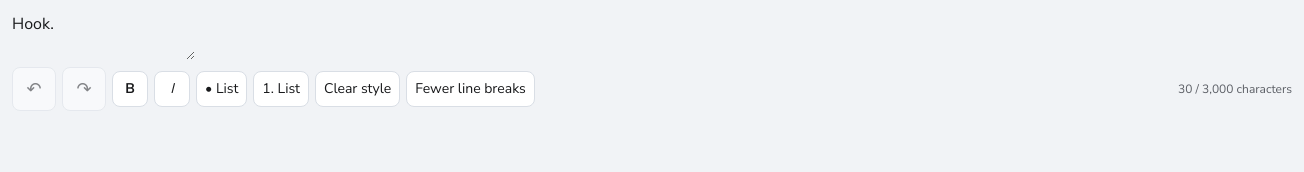
Test: compacts typical post paragraphs, reports the count, then disables the completed action
The image size is (1304, 172).
Click the button "Fewer line breaks". click: (471,89)
box: [406,71,535,107]
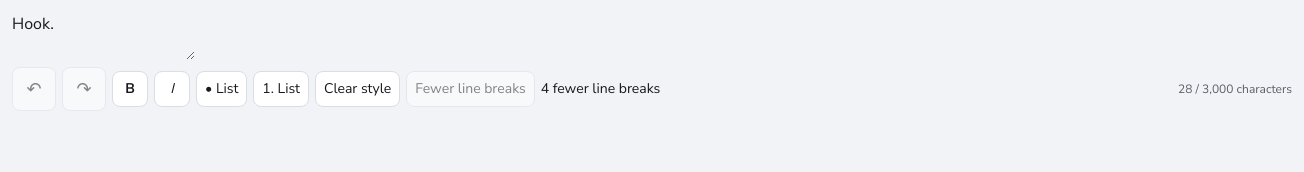
Result: the message reads "4 fewer line breaks" at [541,79,660,99]
Result: the button "Fewer line breaks" is disabled at [406,71,535,107]
